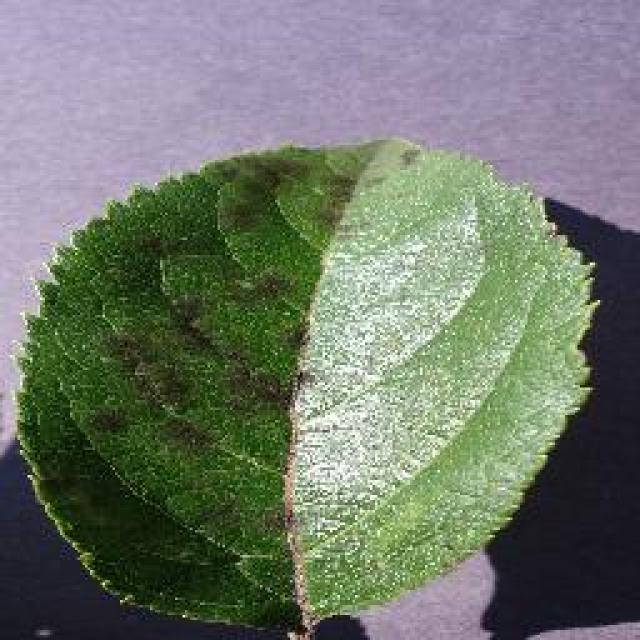apple scab disease: (10, 132, 600, 638)
